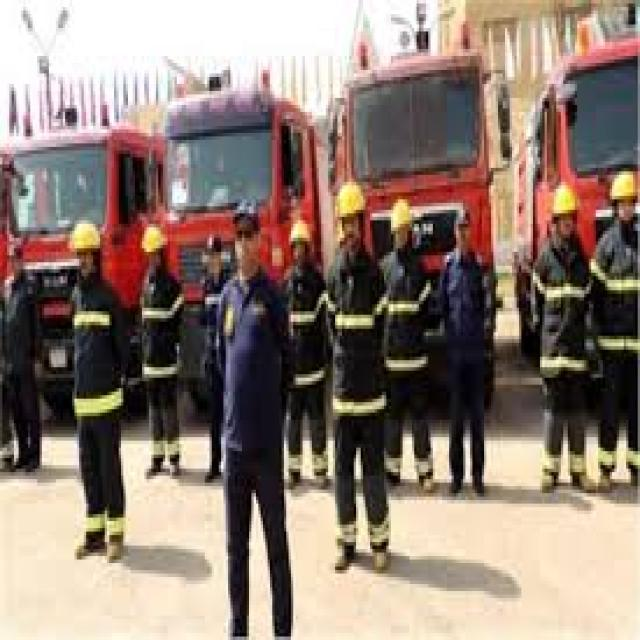pompier: (333, 41, 495, 380), (7, 117, 154, 399)
